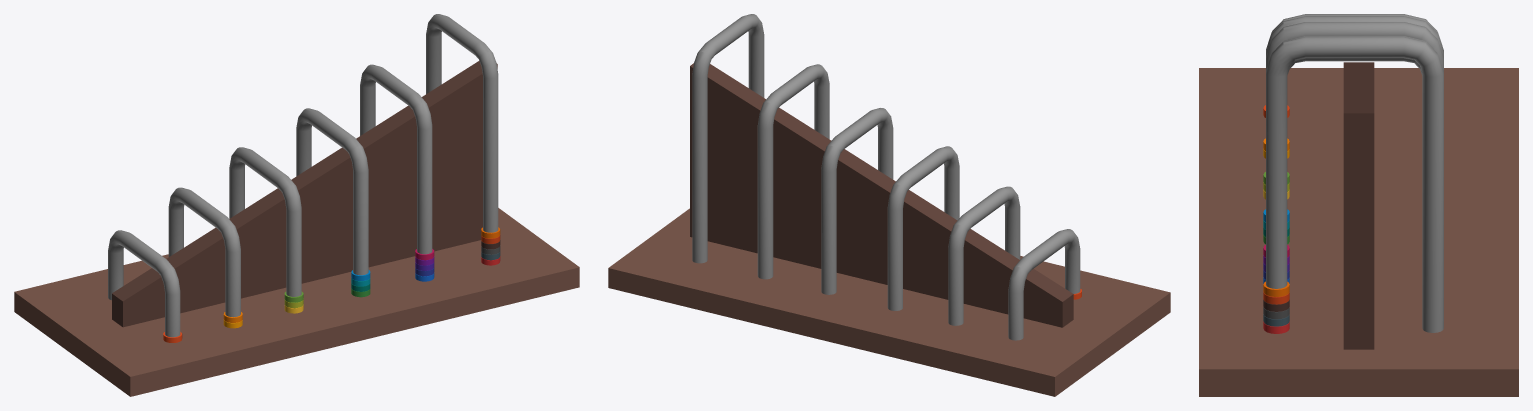
File: Wooden_Toy_2.fbx
The picture shows the model from 3 angles, left to right: view 1: azimuth 30°, elevation 25°; view 2: azimuth 150°, elevation 25°; view 3: azimuth 270°, elevation 25°; orthographic projection. The views are drawn at different scales.
Visible parts, largest first — view 1: Wooden_Toy_2; view 2: Wooden_Toy_2; view 3: Wooden_Toy_2.
Part boxes in pixels (x1=…): Wooden_Toy_2: x1=14, y1=14, x2=579, y2=396; Wooden_Toy_2: x1=608, y1=14, x2=1170, y2=396; Wooden_Toy_2: x1=1199, y1=14, x2=1518, y2=396.
Size of the model in its own units: 51.87 by 25.53 by 23.24.
Materials: 1 (1 with a texture image).
